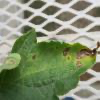Tomato Early blight leaf: (0, 29, 96, 97)
